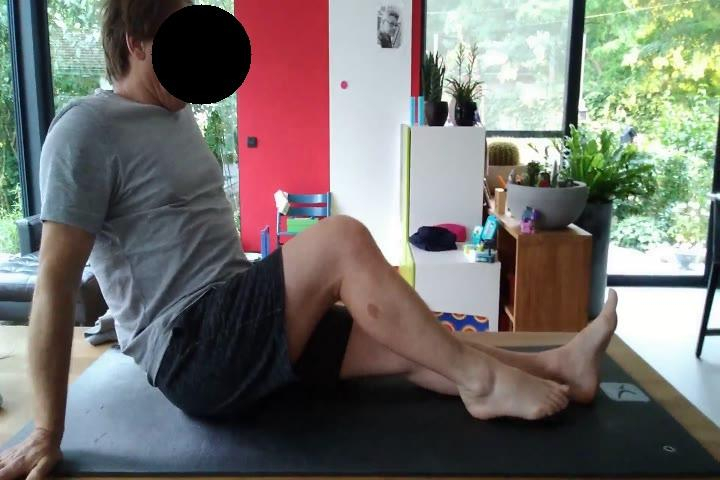lower_body: (155, 214, 622, 424)
